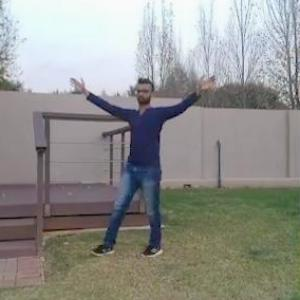takeoff: (86, 72, 245, 265)
